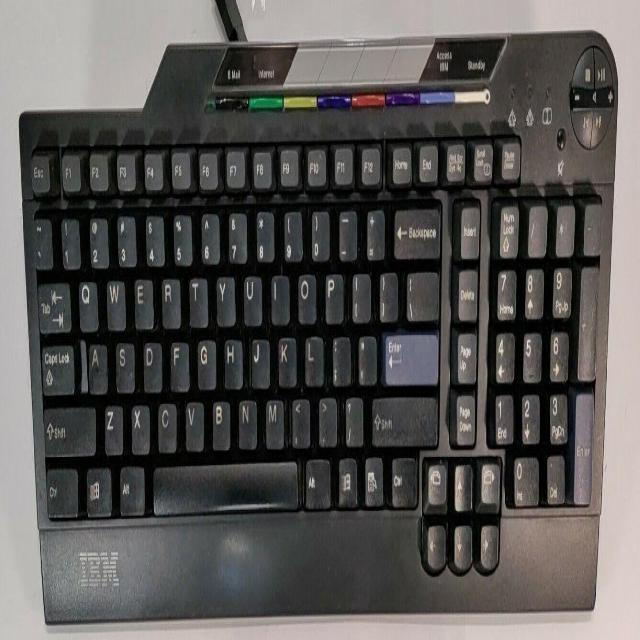keyboard: (18, 110, 615, 624)
